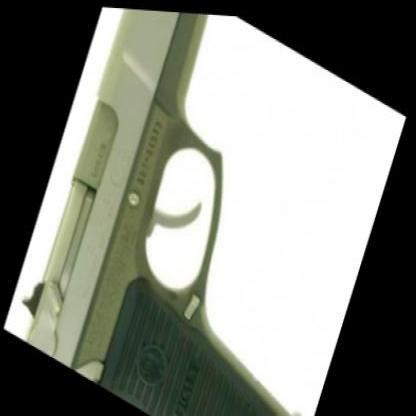pistol: (9, 0, 401, 413)
